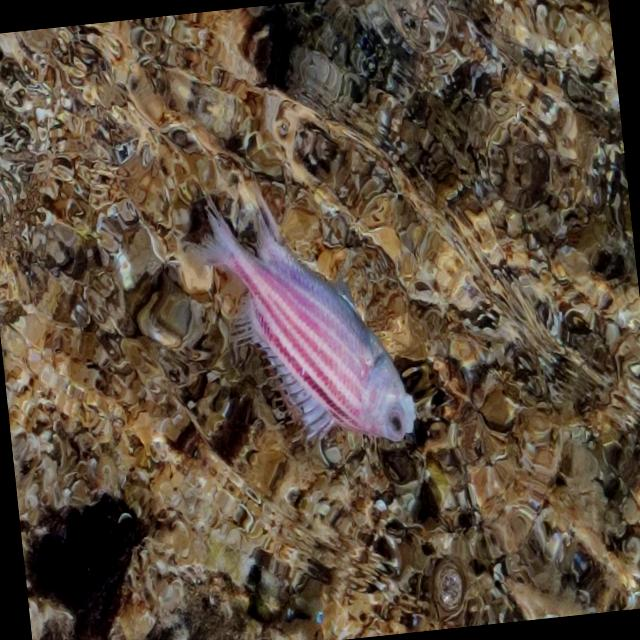Asker Baligi: (177, 166, 420, 466)
